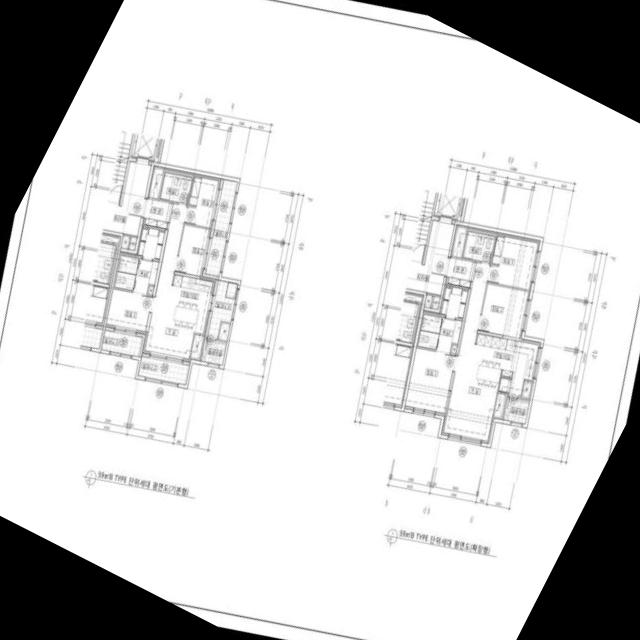background: (0, 0, 640, 640)
space_balconi: (205, 179, 237, 276), (207, 280, 237, 339), (138, 356, 189, 384), (101, 330, 142, 356)
space_bedroom: (404, 347, 455, 415), (488, 232, 540, 290), (478, 283, 530, 338), (106, 289, 152, 333), (185, 173, 221, 227), (175, 224, 211, 276)
space_elevator: (432, 192, 463, 221), (131, 134, 162, 162)
space_elevator_hall: (406, 219, 454, 294), (103, 161, 151, 235)
space_front: (446, 257, 474, 288), (144, 198, 172, 228)
space_kitchen: (468, 333, 541, 395), (165, 274, 216, 334)
space_living_room: (441, 262, 497, 443), (142, 203, 194, 361)
space_other: (148, 165, 164, 198), (451, 224, 467, 257), (190, 334, 205, 360), (493, 393, 506, 419), (521, 381, 533, 399), (219, 322, 230, 340), (431, 295, 440, 309), (128, 236, 137, 250), (424, 294, 432, 307), (121, 235, 129, 248), (451, 345, 457, 353), (148, 286, 154, 294)
space_outdoor_room: (503, 397, 529, 423), (201, 338, 226, 365)
space_staircase: (108, 131, 132, 203), (411, 191, 435, 263)
space_toilet: (417, 313, 461, 354), (114, 255, 158, 295), (463, 231, 495, 263), (160, 172, 192, 203), (136, 226, 165, 260), (439, 285, 468, 319)
